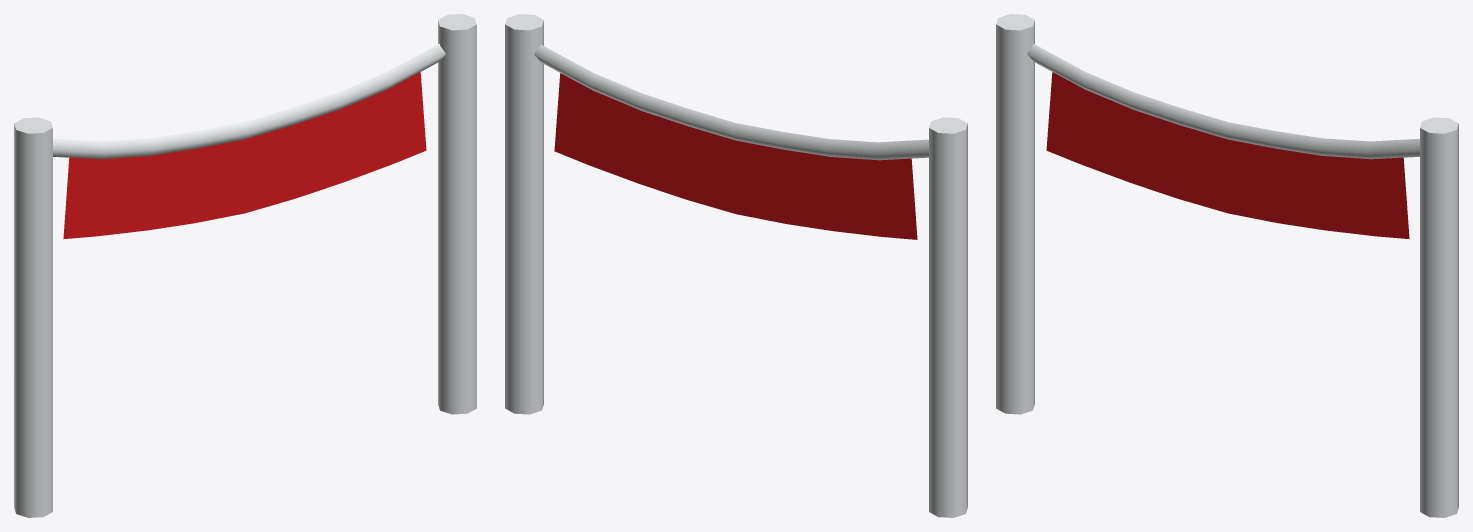
The model's file is flags01_s01.FBX.
The picture shows the model from 3 angles, left to right: view 1: azimuth 30°, elevation 25°; view 2: azimuth 150°, elevation 25°; view 3: azimuth 330°, elevation 25°; orthographic projection.
Visible parts, largest first — view 1: flags01_s01; view 2: flags01_s01; view 3: flags01_s01.
Boxes of the visible parts, bbox=[...] form: flags01_s01: bbox=[14, 14, 476, 517]; flags01_s01: bbox=[505, 14, 967, 517]; flags01_s01: bbox=[996, 14, 1458, 517].
Size of the model in its own units: 424 by 32.22 by 339.
Materials: 1 (1 with a texture image).
